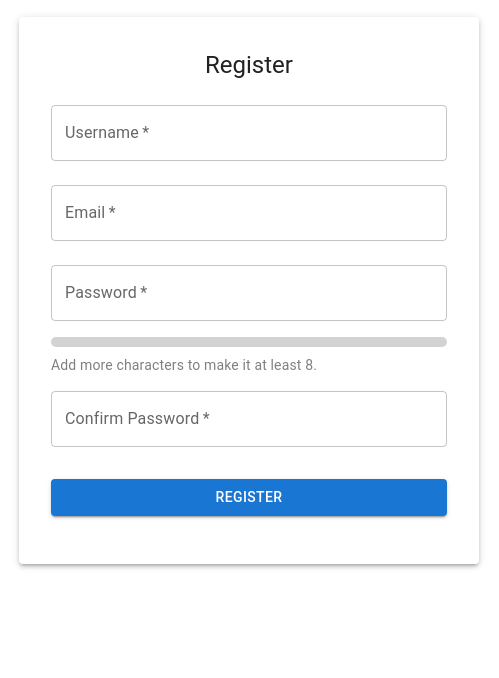
Registration Component Tests › should allow a user to register successfully and navigate
The image size is (499, 678).
Type "testuser" into the field labelled "Username *". click: coordinates (249, 133)
box: left=51, top=105, right=447, bottom=161
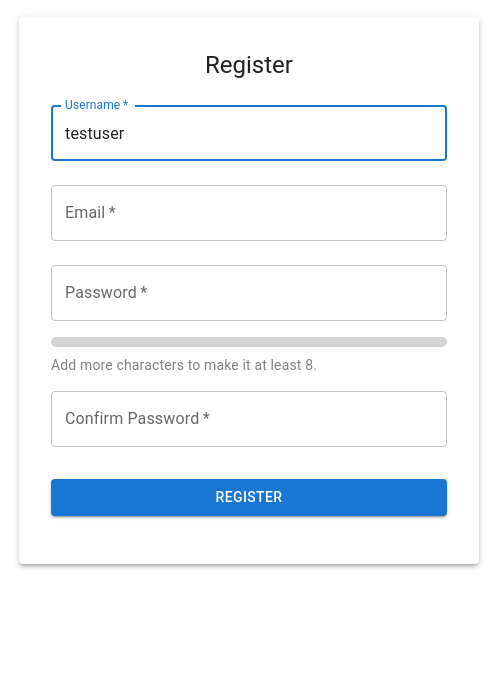
Type "testuser@bu.edu" into the field labelled "Email *". click: coordinates (249, 213)
box: left=51, top=185, right=447, bottom=241
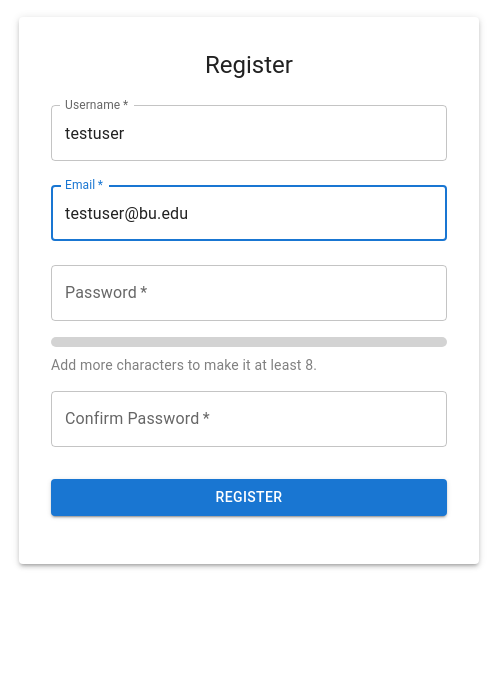
Type "Password123!" into the password field labelled "Password *". click: coordinates (249, 293)
box: left=51, top=265, right=447, bottom=321
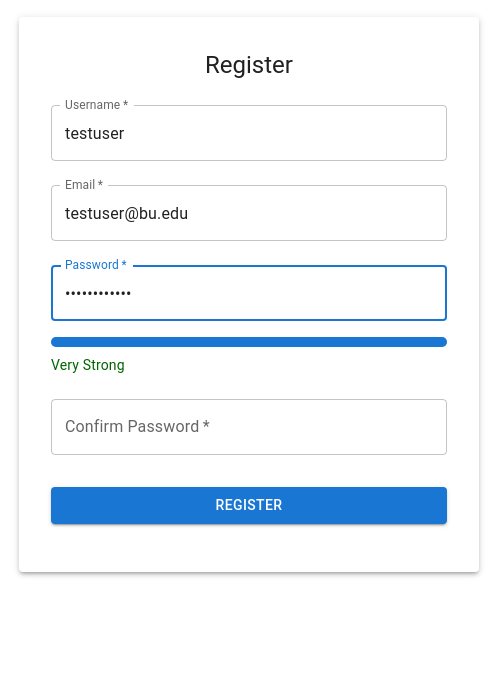
Type "Password123!" into the password field labelled "Confirm Password *". click: coordinates (249, 427)
box: left=51, top=399, right=447, bottom=455
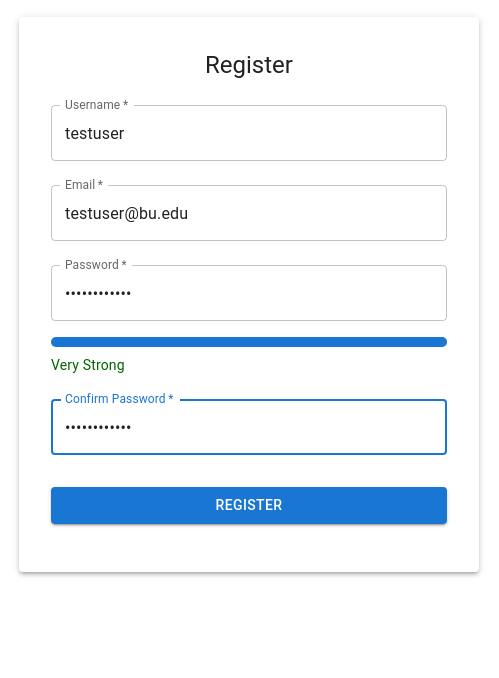
Click the button "Register". click: coordinates (249, 506)
box: left=51, top=487, right=447, bottom=524
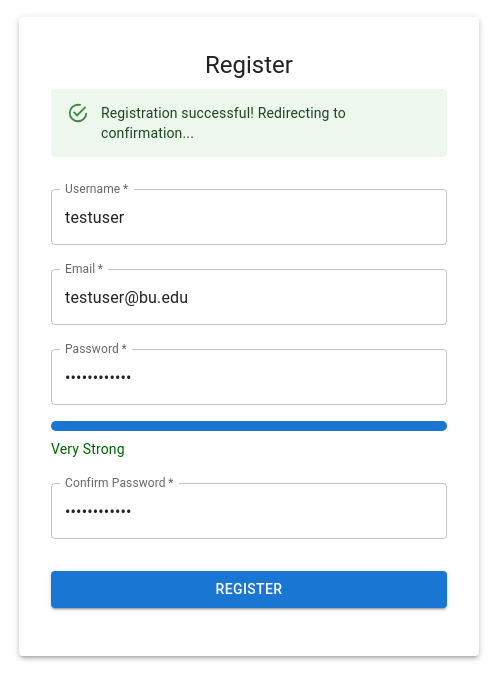
Expected: the text "Registration successful! Redirecting to confirmation..." is shown, left=101, top=105, right=346, bottom=141
